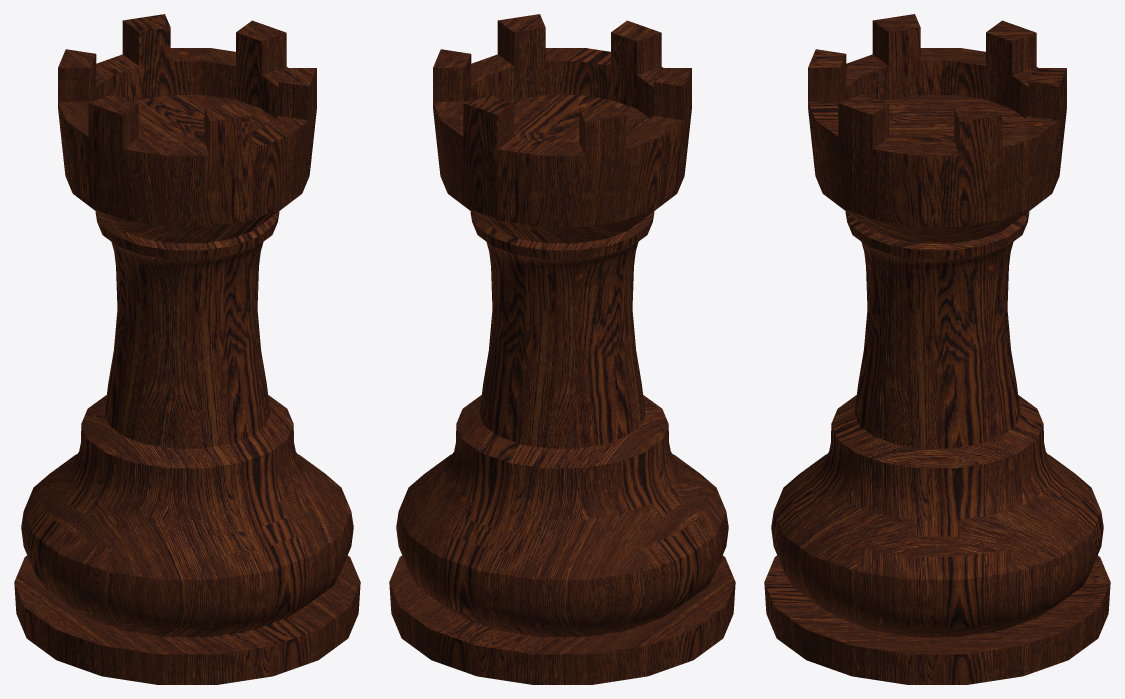
Rendered from black_rook.obj.
3 renders of one model, left to right at view 1: azimuth 30°, elevation 25°; view 2: azimuth 150°, elevation 25°; view 3: azimuth 270°, elevation 25°, orthographic.
Visible parts, largest first — view 1: Rook_B1_Material_010_0.001; view 2: Rook_B1_Material_010_0.001; view 3: Rook_B1_Material_010_0.001.
Part boxes in pixels (x1,y1,x2,y2): Rook_B1_Material_010_0.001: [14, 14, 360, 684]; Rook_B1_Material_010_0.001: [389, 14, 735, 684]; Rook_B1_Material_010_0.001: [764, 14, 1110, 684].
Bounding box in the file's own units: 2.63 × 4.72 × 2.67.
